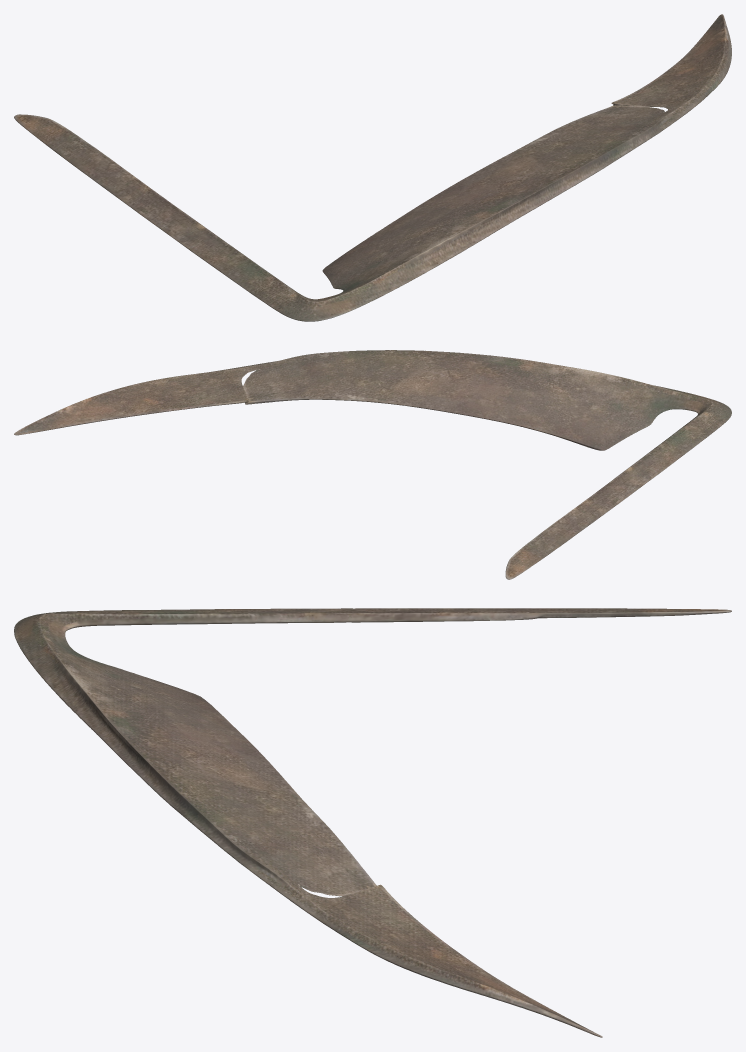
Rendered from kosa.glb.
3 views of the same model, one above another, from view 1: azimuth 30°, elevation 25°; view 2: azimuth 150°, elevation 25°; view 3: azimuth 270°, elevation 25° (orthographic). The views are drawn at different scales.
Size of the model in its own units: 1.9 by 0.1469 by 1.42.
1 material, 1 textured.
